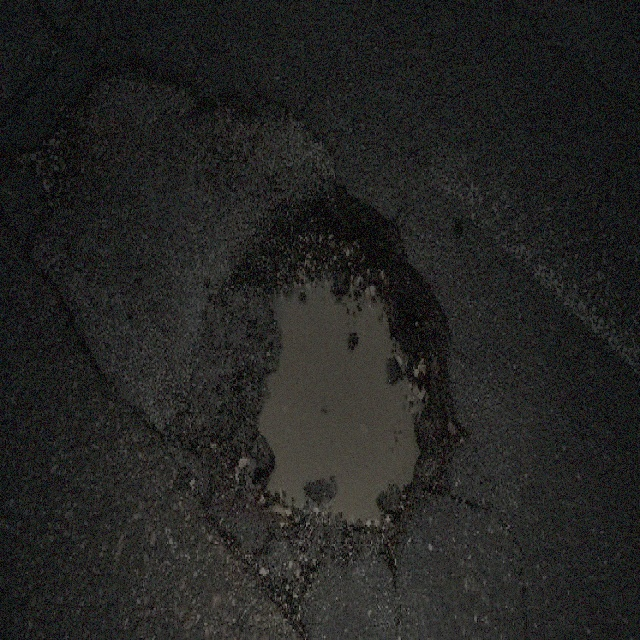pothole: (226, 175, 462, 563)
